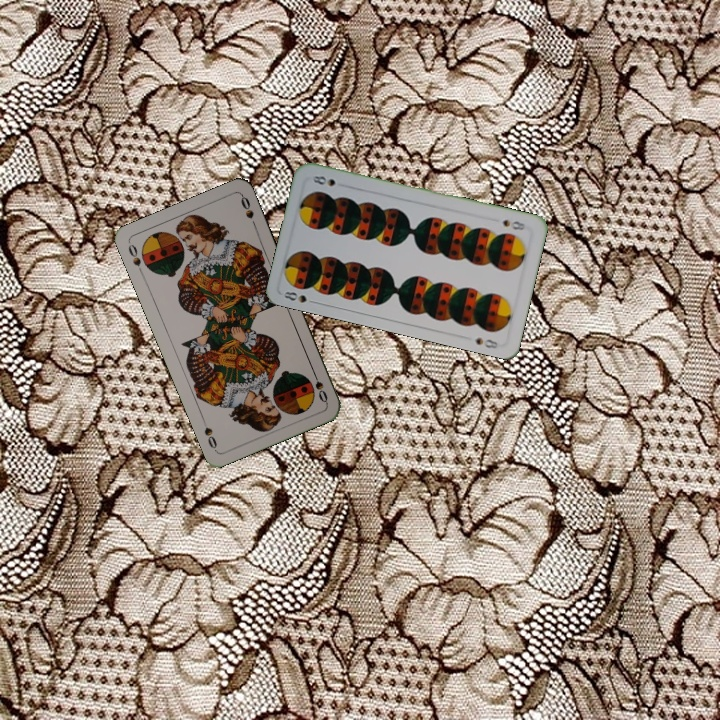S8: (280, 287, 320, 306), (499, 216, 528, 233)
SO: (308, 367, 330, 405), (124, 240, 146, 278)
